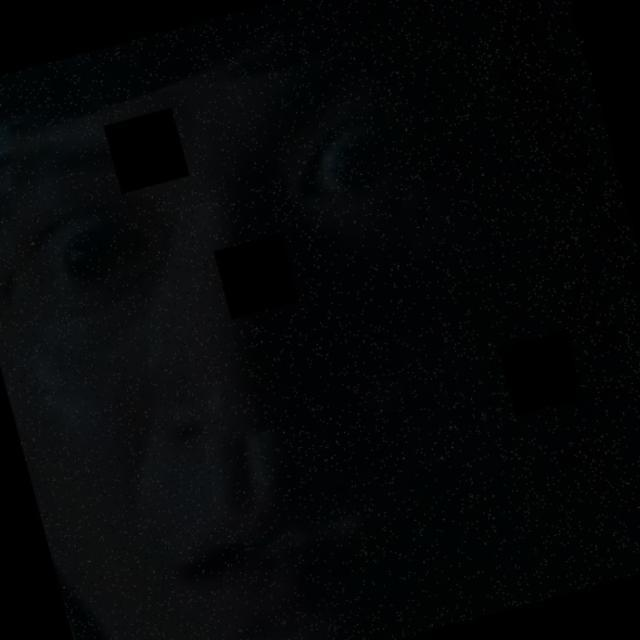Surprised: (0, 113, 637, 633)
